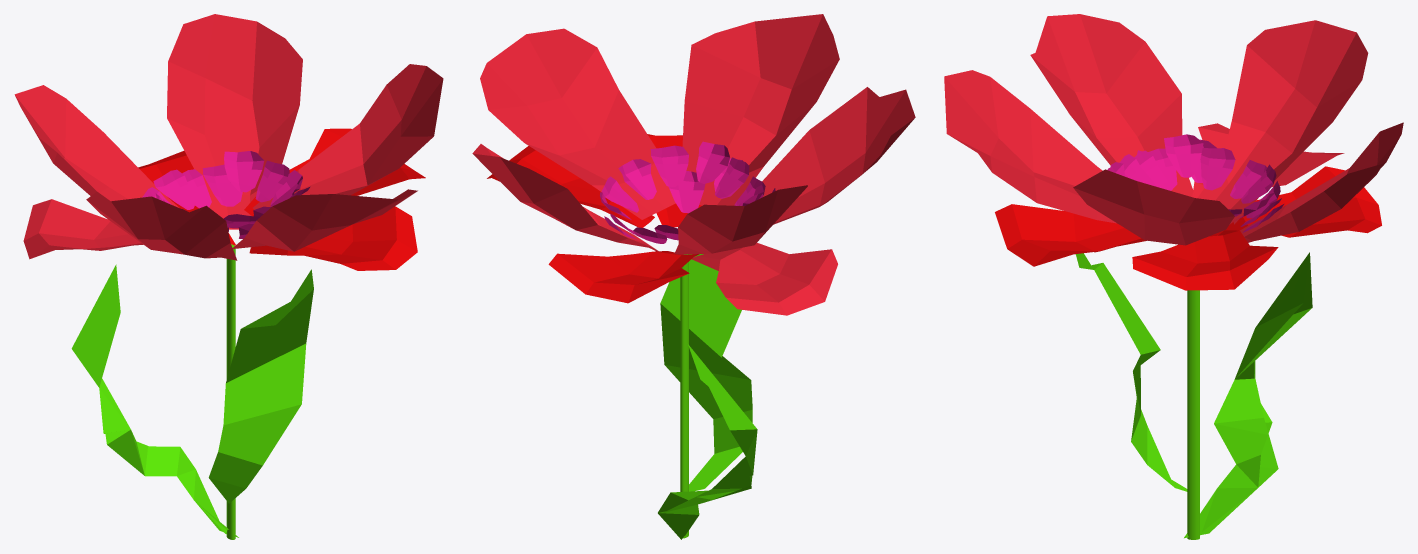
File: Flower (1).glb
The picture shows the model from 3 angles, left to right: view 1: azimuth 30°, elevation 25°; view 2: azimuth 150°, elevation 25°; view 3: azimuth 270°, elevation 25°; orthographic projection. The views are drawn at different scales.
Parts seen in each view (by area): view 1: Plane.002, Plane.029, Plane.001, Plane.009, Plane.006, Plane, Plane.003, Plane.021, Plane.004, Plane.026, Cylinder, Plane.005 (+7 smaller); view 2: Plane, Plane.001, Plane.006, Plane.029, Plane.004, Plane.010, Plane.009, Plane.002, Plane.021, Plane.005, Cylinder, Plane.026 (+7 smaller); view 3: Plane.009, Plane.006, Plane, Plane.001, Plane.003, Plane.005, Plane.021, Plane.002, Plane.026, Plane.029, Cylinder, Plane.010 (+7 smaller).
Boxes of the visible parts, x1,y1,x2,y2 form: Plane.002: (167, 14, 302, 229); Plane.029: (208, 269, 313, 503); Plane.001: (253, 64, 443, 209); Plane.009: (14, 85, 179, 207); Plane.006: (86, 191, 237, 260); Plane: (232, 189, 417, 251); Plane.003: (249, 206, 417, 270); Plane.021: (71, 264, 226, 533); Plane.004: (23, 199, 143, 259); Plane.026: (99, 378, 238, 537); Cylinder: (226, 244, 235, 539); Plane.005: (244, 128, 425, 216); Plane: (682, 14, 839, 205); Plane.001: (480, 28, 675, 219); Plane.006: (762, 87, 915, 224); Plane.029: (660, 254, 752, 491); Plane.004: (692, 242, 837, 315); Plane.010: (548, 251, 699, 303); Plane.009: (674, 185, 807, 254); Plane.002: (472, 144, 658, 251); Plane.021: (659, 344, 757, 535); Plane.005: (487, 146, 654, 227); Cylinder: (680, 254, 688, 538); Plane.026: (658, 430, 757, 539); Plane.009: (1197, 20, 1368, 224); Plane.006: (1030, 14, 1194, 196); Plane: (944, 70, 1116, 223); Plane.001: (1073, 169, 1234, 245); Plane.003: (995, 204, 1146, 266); Plane.005: (1132, 230, 1278, 290); Plane.021: (1202, 252, 1312, 531); Plane.002: (1240, 122, 1403, 242); Plane.026: (1184, 252, 1309, 538); Plane.029: (1075, 253, 1187, 491); Cylinder: (1187, 290, 1199, 539); Plane.010: (1211, 166, 1381, 237).
Size of the model in its own units: 10.34 by 11.6 by 10.67.
